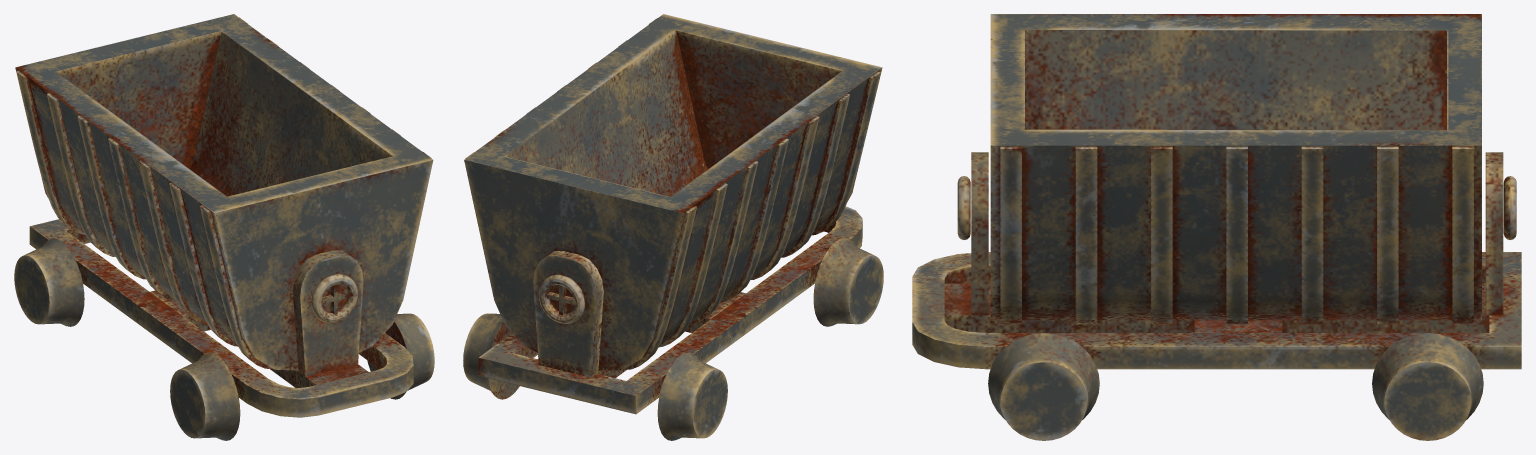
The model's file is r_minecart.fbx.
The picture shows the model from 3 angles, left to right: view 1: azimuth 30°, elevation 25°; view 2: azimuth 150°, elevation 25°; view 3: azimuth 270°, elevation 25°; orthographic projection. The views are drawn at different scales.
Visible parts, largest first — view 1: minecart; view 2: minecart; view 3: minecart.
Boxes of the visible parts, x1,y1,x2,y2 form: minecart: [14, 14, 434, 440]; minecart: [463, 14, 883, 440]; minecart: [912, 14, 1521, 440].
Size of the model in its own units: 90.75 by 93.13 by 170.
Materials: 1 (1 with a texture image).
